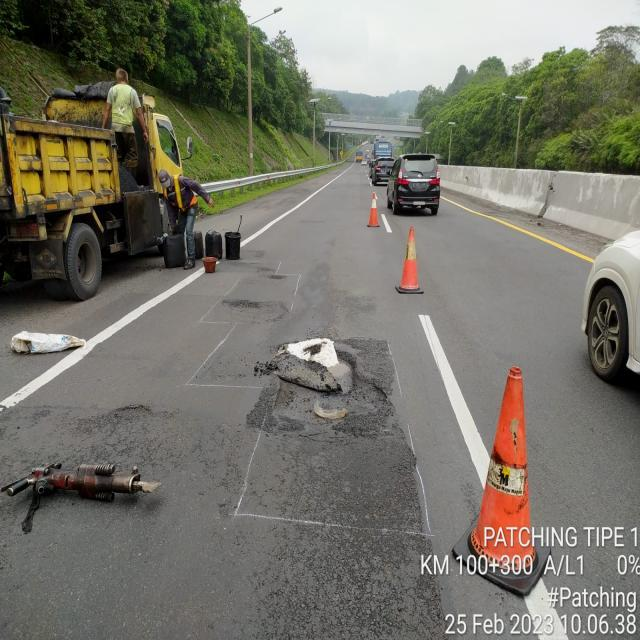Buraco: (243, 334, 390, 440), (106, 402, 154, 422), (219, 297, 266, 313)
